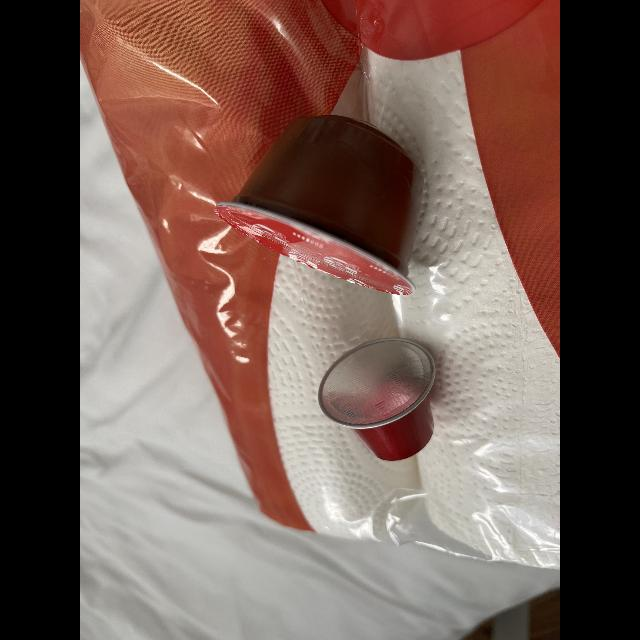intact_capsule: (205, 102, 431, 304), (308, 331, 458, 465)
